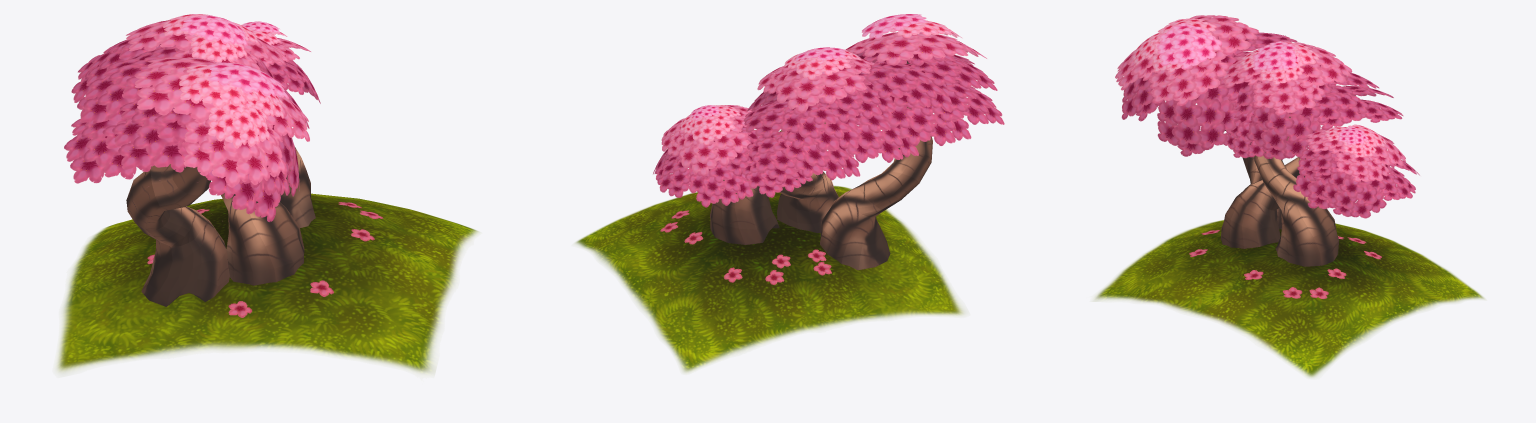
File: cherry-tree.glb
3 renders of one model, left to right at view 1: azimuth 30°, elevation 25°; view 2: azimuth 150°, elevation 25°; view 3: azimuth 270°, elevation 25°, orthographic. The views are drawn at different scales.
Visible parts, largest first — view 1: Plane.000, Plane.002, Plane.001; view 2: Plane.002, Plane.000, Plane.001; view 3: Plane.002, Plane.000, Plane.001.
Part boxes in pixels (x1,y1,x2,y2): Plane.000: (57, 193, 478, 372); Plane.002: (64, 14, 320, 222); Plane.001: (126, 147, 315, 306); Plane.002: (653, 14, 1004, 207); Plane.000: (576, 186, 963, 372); Plane.001: (710, 61, 932, 270); Plane.002: (1115, 15, 1419, 218); Plane.000: (1095, 220, 1483, 377); Plane.001: (1220, 116, 1339, 266).
Bounding box in the file's own units: 25.4 × 15.53 × 25.32.
Materials: 3 (3 with a texture image).
